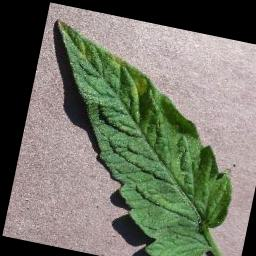Leaf_Mold: (129, 74, 151, 99), (107, 51, 134, 71), (74, 40, 97, 62)
